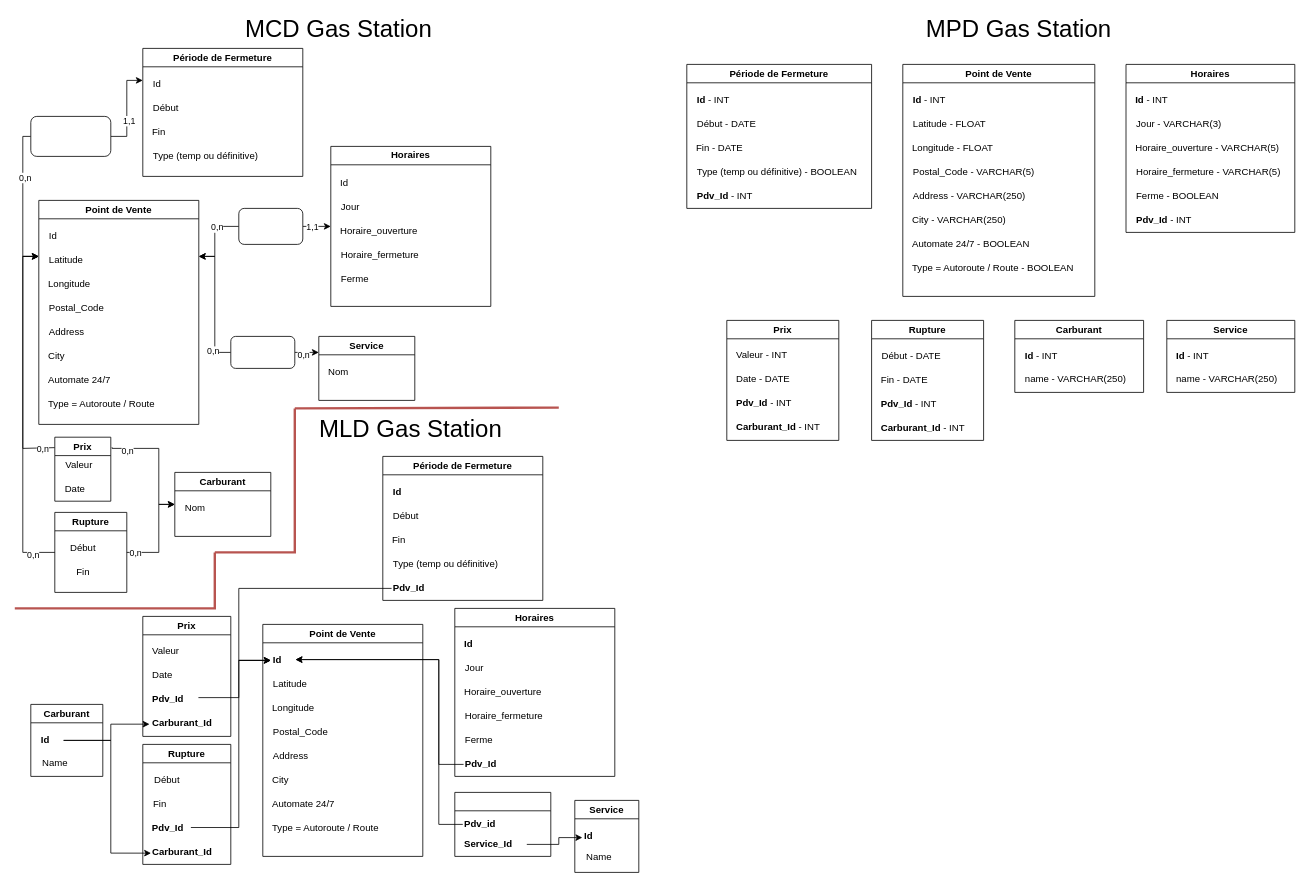
The diagram is 1309 pixels wide and 886 high, and some of its shapes have lost their labels. The shapes that lost their labels are listed below. From the top down, each one's box as (x1, y1, x2, y2) in pixels, then its label:
(30, 116, 111, 156): Fermer
(238, 208, 303, 244): Ouvrir
(230, 336, 295, 368): Disposer
(454, 792, 551, 856): Pdv_Service
